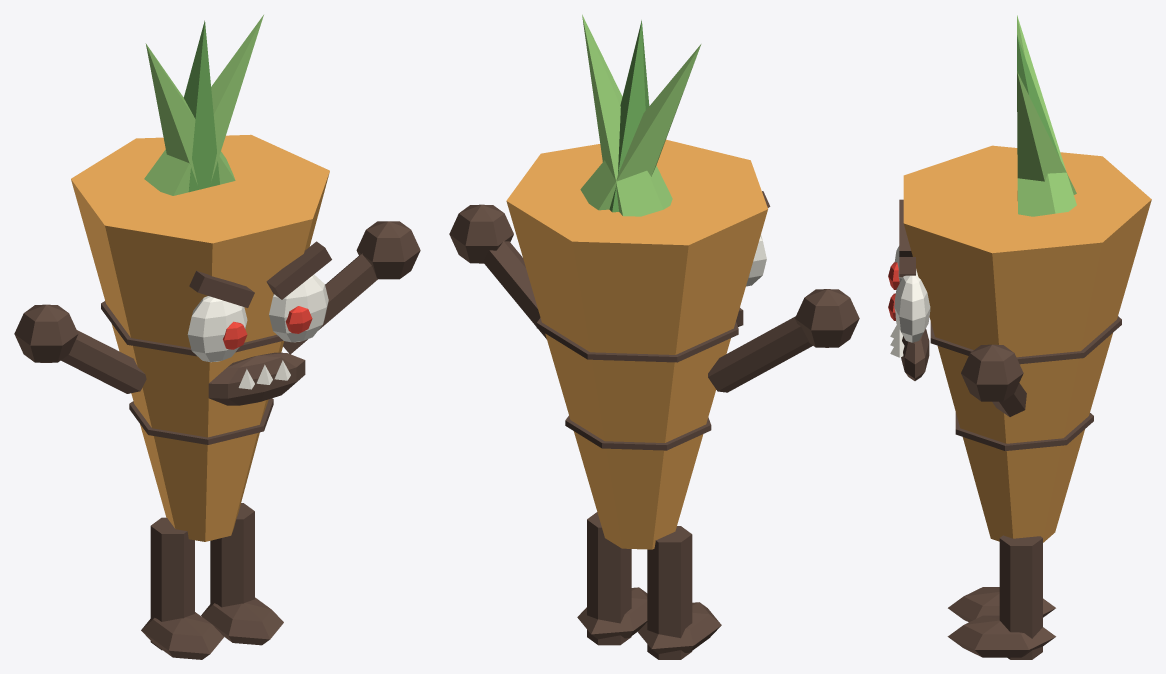
The model's file is MiniCarrot.fbx.
The picture shows the model from 3 angles, left to right: view 1: azimuth 30°, elevation 25°; view 2: azimuth 150°, elevation 25°; view 3: azimuth 270°, elevation 25°; orthographic projection. The views are drawn at different scales.
Visible parts, largest first — view 1: MiniCarrot; view 2: MiniCarrot; view 3: MiniCarrot.
Boxes of the visible parts, bbox=[...] form: MiniCarrot: bbox=[14, 15, 420, 659]; MiniCarrot: bbox=[449, 14, 859, 659]; MiniCarrot: bbox=[888, 15, 1151, 659].
Bounding box in the file's own units: 0.9126 × 1.38 × 0.5454.
